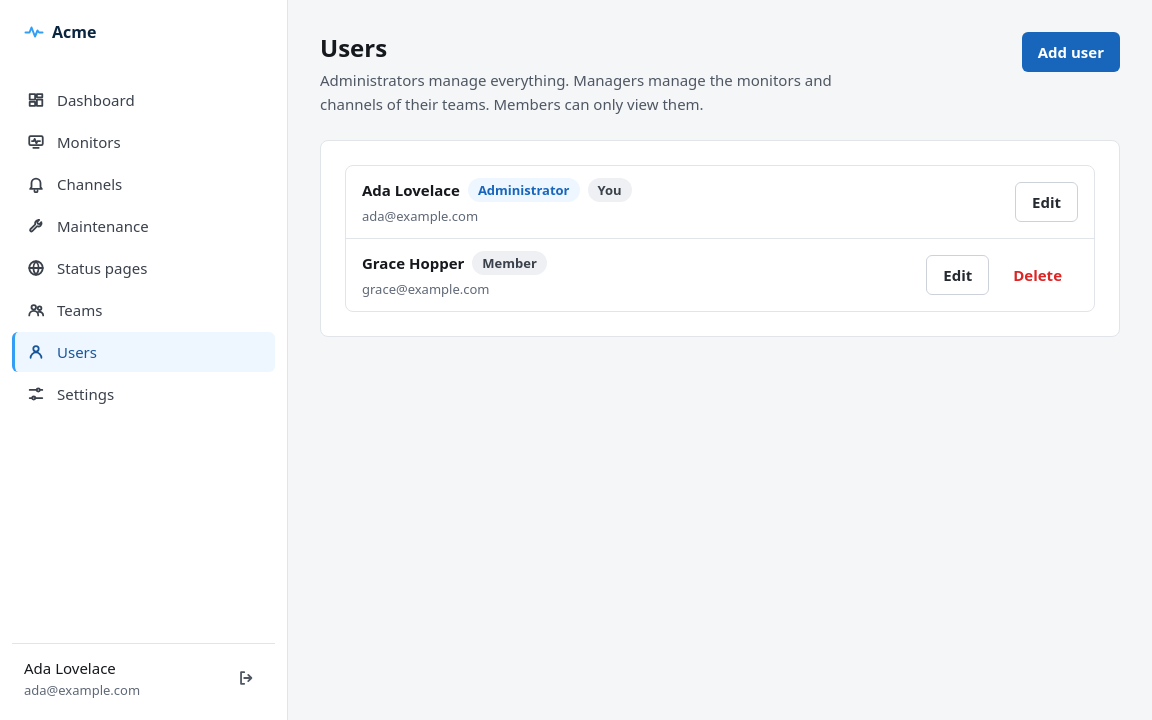
Scenario: UsersPage › shows why a user cannot be deleted
Click the button with aria-label "Delete: Grace Hopper".
click(1038, 275)  # box left=997, top=255, right=1078, bottom=295
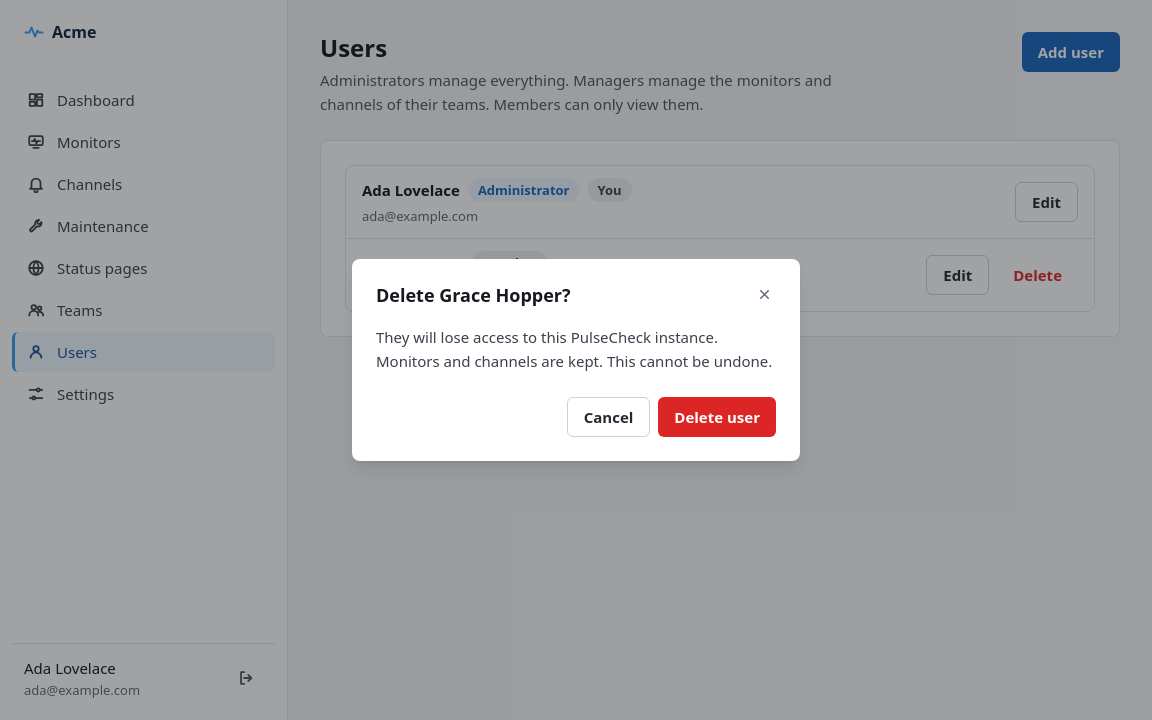
Click the button "Delete user".
click(717, 417)  # box left=658, top=397, right=776, bottom=437
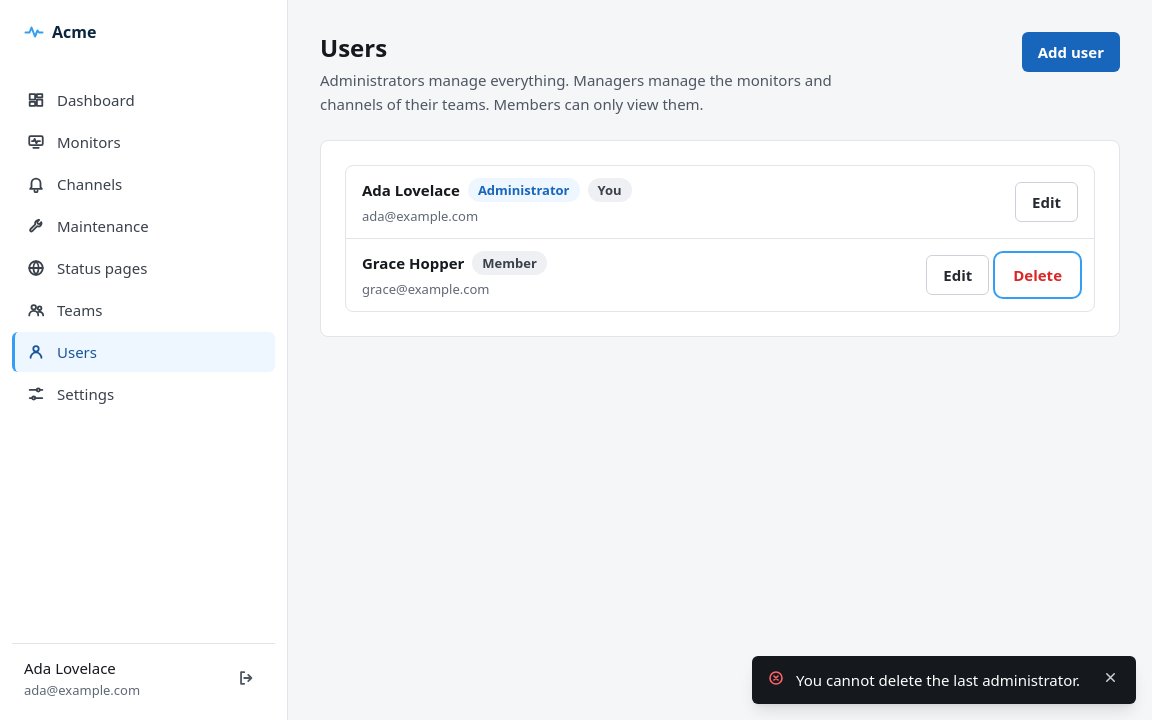
Check: the text "You cannot delete the last administrator." is shown, box left=796, top=668, right=1089, bottom=692
